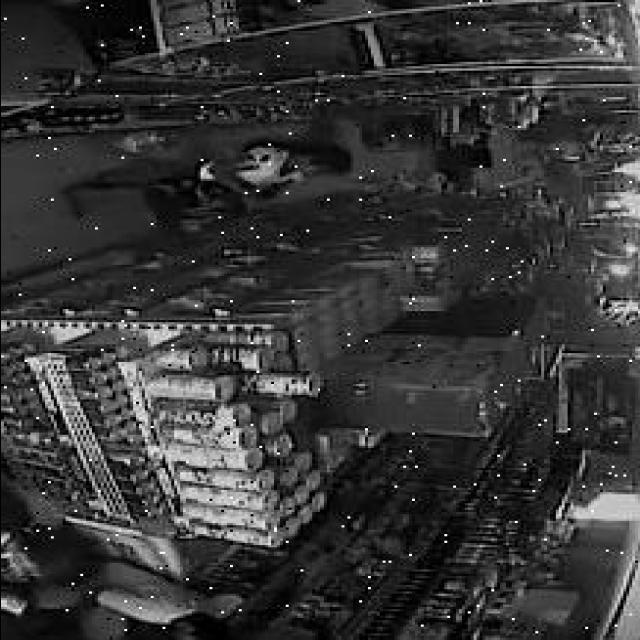Shoplifting: (42, 127, 374, 257)
